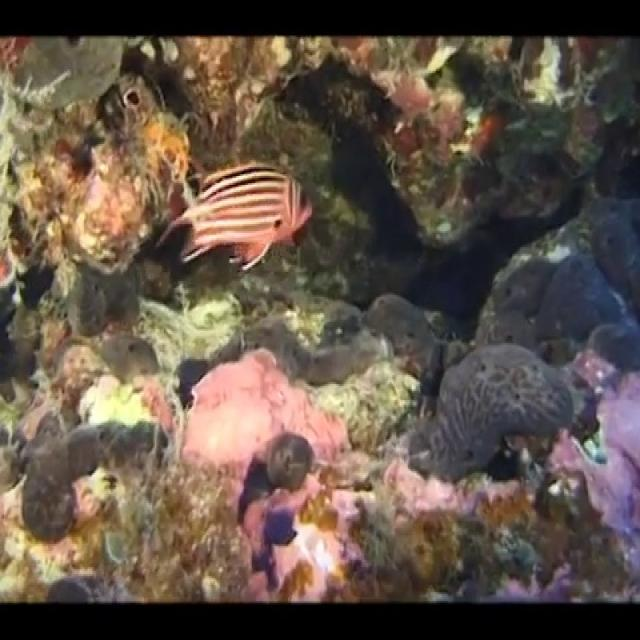Asker Baligi: (154, 158, 314, 274)
